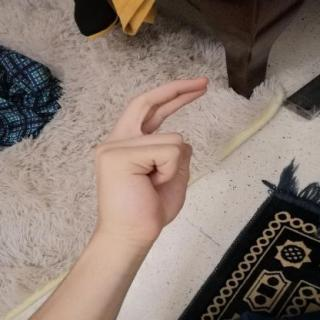ZAY: (86, 69, 217, 247)
